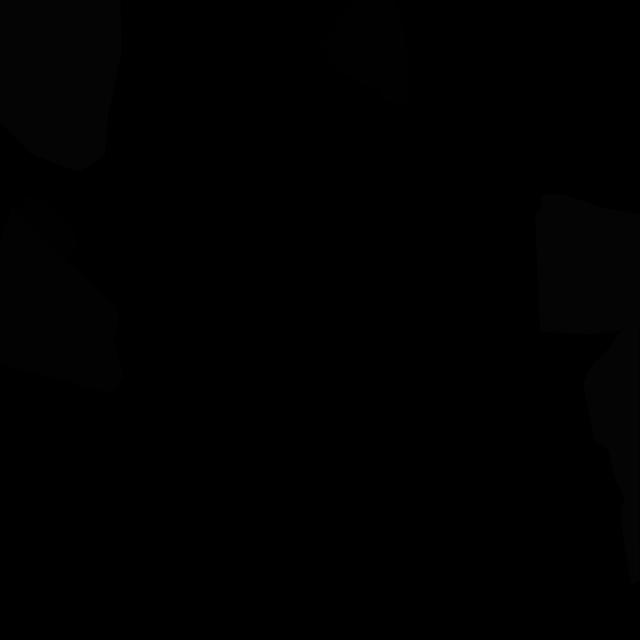cardboard: (0, 204, 124, 393)
rigid_plastic: (321, 0, 410, 104), (18, 195, 78, 260)
soft_plastic: (582, 324, 640, 585), (535, 194, 640, 335)
